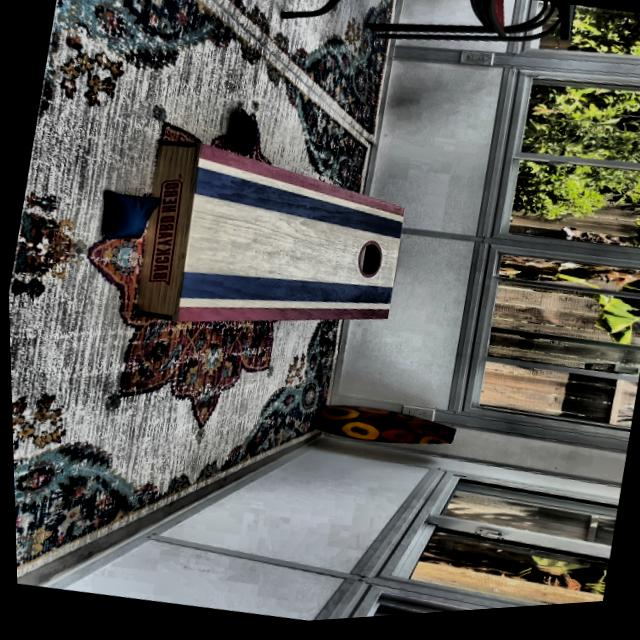blue-bean-bag: (92, 186, 160, 250), (226, 110, 264, 162)
board: (173, 165, 408, 343)
hole: (349, 243, 385, 287)
